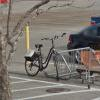Bicycle: (23, 31, 79, 85)
